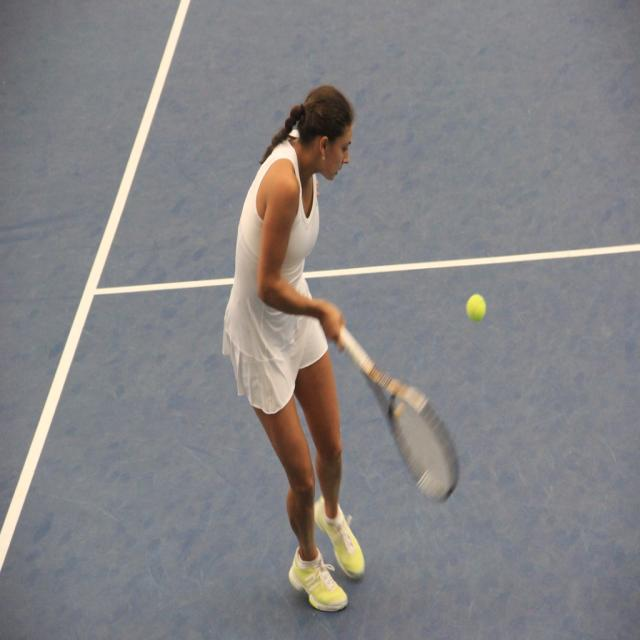Tennis ball: (465, 292, 486, 322)
